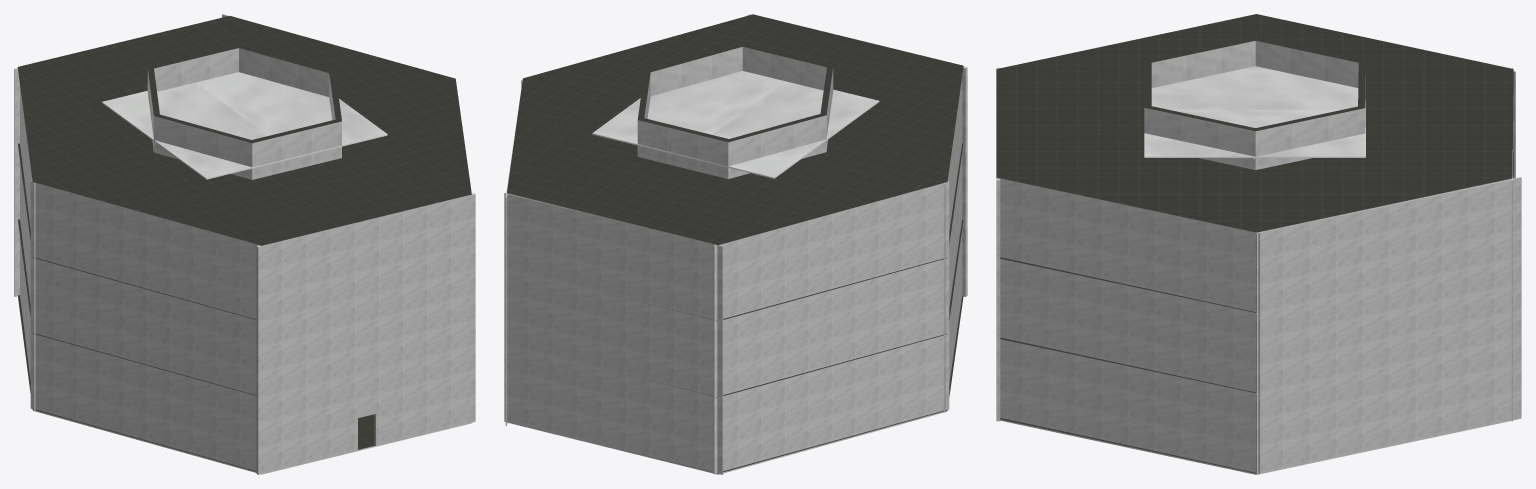
The model's file is JumperBay.fbx.
3 views of the same model, side by side, from view 1: azimuth 30°, elevation 25°; view 2: azimuth 150°, elevation 25°; view 3: azimuth 270°, elevation 25° (orthographic). The views are drawn at different scales.
Visible parts, largest first — view 1: node_id10 (×3); view 2: node_id10 (×3); view 3: node_id10 (×2).
Part boxes in pixels (x1,y1,x2,y2): node_id10 (×3): [14, 14, 475, 474]; node_id10 (×3): [504, 14, 967, 474]; node_id10 (×2): [996, 14, 1521, 474].
Size of the model in its own units: 0.512 by 0.307 by 0.5195.
5 materials, 4 textured.
